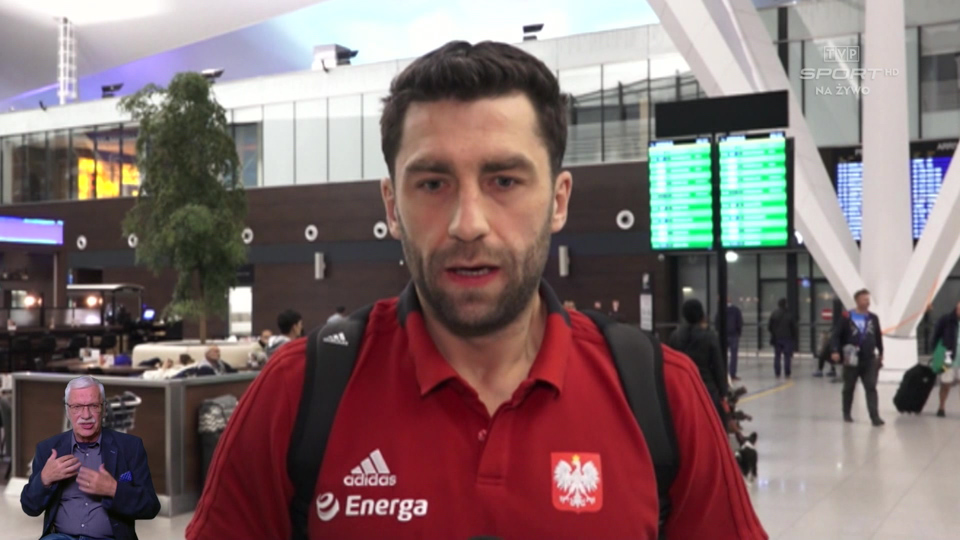Adidas: (343, 446, 399, 489)
